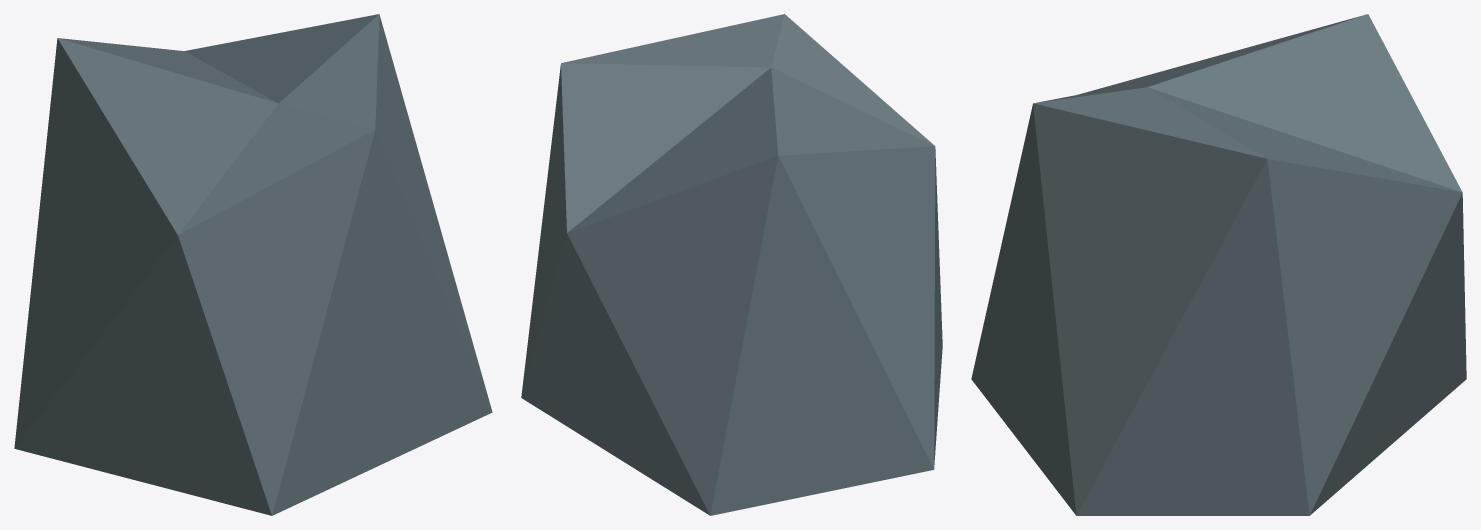
The model's file is Steen hoog1.fbx.
3 views of the same model, side by side, from view 1: azimuth 30°, elevation 25°; view 2: azimuth 150°, elevation 25°; view 3: azimuth 270°, elevation 25° (orthographic). The views are drawn at different scales.
Visible parts, largest first — view 1: Icosphere.001; view 2: Icosphere.001; view 3: Icosphere.001.
Boxes of the visible parts, x1,y1,x2,y2 form: Icosphere.001: (14, 14, 492, 515); Icosphere.001: (521, 14, 942, 515); Icosphere.001: (971, 14, 1466, 515).
Size of the model in its own units: 109 by 89.79 by 114.
